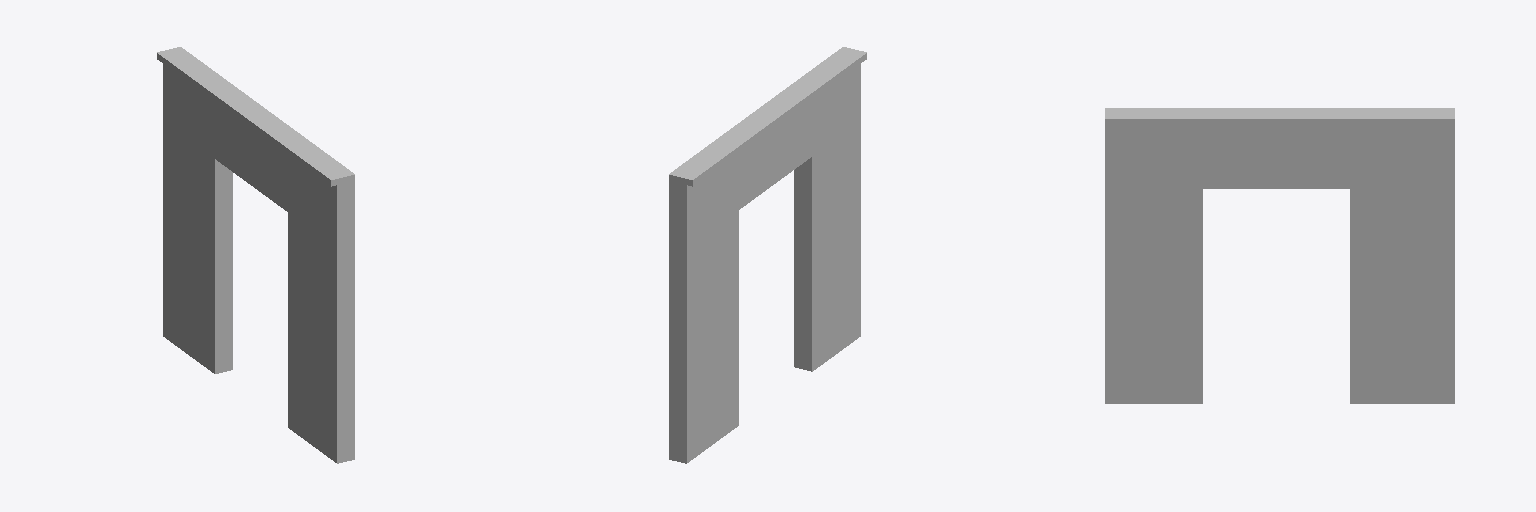
The model's file is Kitchen_wall_with_door.obj.
The picture shows the model from 3 angles: view 1: azimuth 30°, elevation 25°; view 2: azimuth 150°, elevation 25°; view 3: azimuth 270°, elevation 25°; orthographic projection.
Parts seen in each view (by area): view 1: object 1; view 2: object 1; view 3: object 1.
Boxes of the visible parts, x1=… form: object 1: x1=157, y1=47, x2=354, y2=463; object 1: x1=669, y1=47, x2=866, y2=463; object 1: x1=1105, y1=108, x2=1454, y2=403.
Size of the model in its own units: 0.4 by 4.5 by 5.